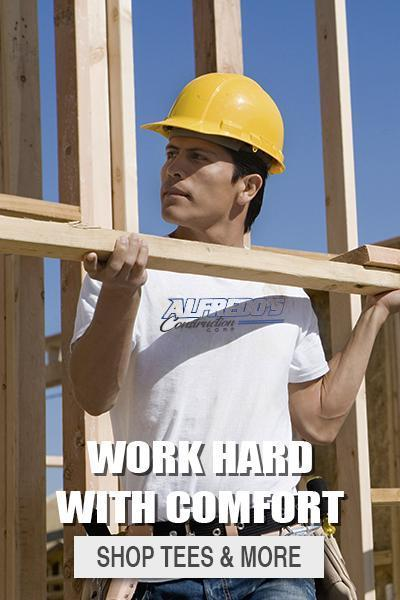helmet: (137, 64, 304, 175)
person: (65, 64, 361, 431)
